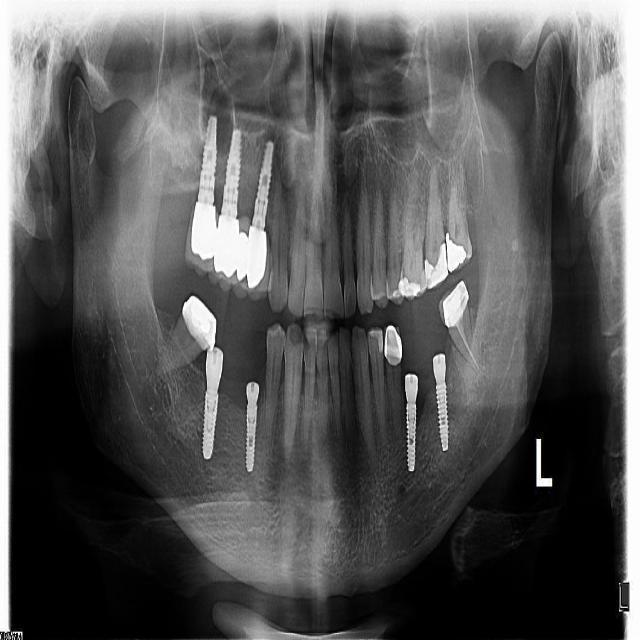Crown: (185, 201, 218, 275), (209, 217, 240, 292), (181, 294, 215, 353), (246, 227, 273, 298), (233, 215, 251, 297), (439, 280, 468, 328), (383, 325, 402, 366)
Filling: (425, 243, 448, 289), (445, 231, 466, 272), (399, 278, 420, 297), (369, 326, 383, 352), (394, 284, 402, 299)
Implant: (202, 347, 223, 460), (251, 142, 273, 229), (197, 112, 217, 205), (222, 129, 241, 215), (433, 353, 447, 449), (405, 373, 418, 472), (246, 383, 259, 471)
Root Canal Treatment: (456, 314, 480, 370)
